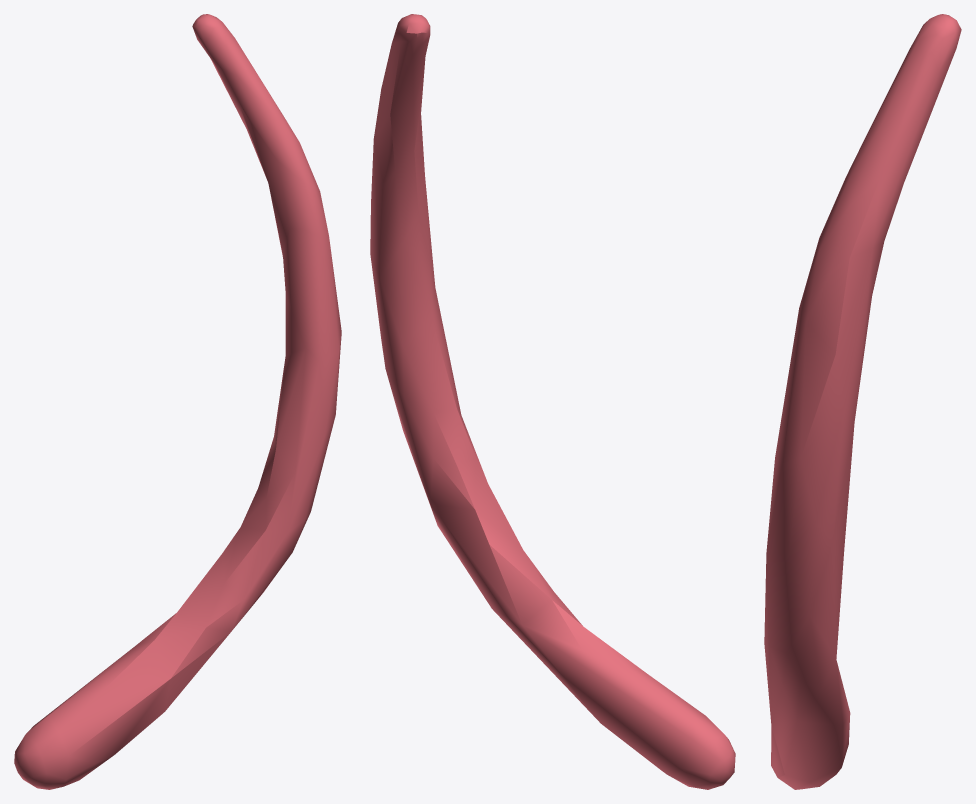
Rendered from fma8666_fj6027.glb.
3 renders of one model, left to right at view 1: azimuth 30°, elevation 25°; view 2: azimuth 150°, elevation 25°; view 3: azimuth 270°, elevation 25°, orthographic. The views are drawn at different scales.
Visible parts, largest first — view 1: FMA8666_FJ6027; view 2: FMA8666_FJ6027; view 3: FMA8666_FJ6027.
Part boxes in pixels (<box>): FMA8666_FJ6027: <box>14,14,341,789</box>; FMA8666_FJ6027: <box>370,14,735,789</box>; FMA8666_FJ6027: <box>764,14,961,789</box>.
Size of the model in its own units: 0.0178 by 0.0364 by 0.00725.
